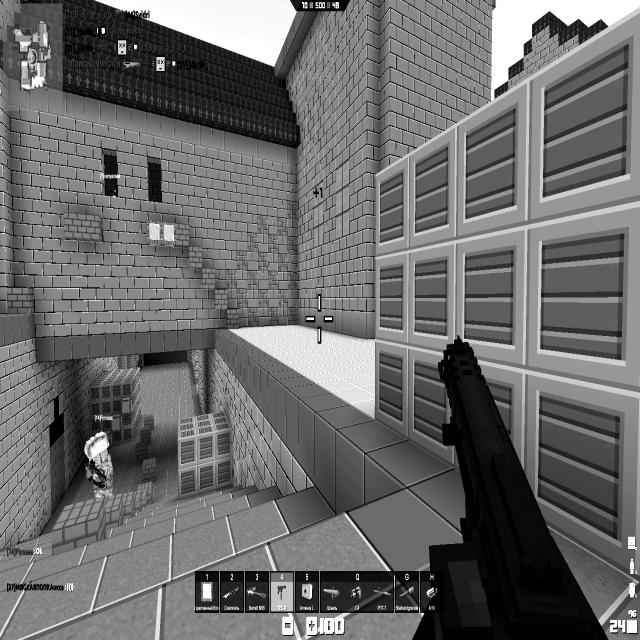Head: (85, 434, 111, 468)
Player: (84, 430, 114, 500)
